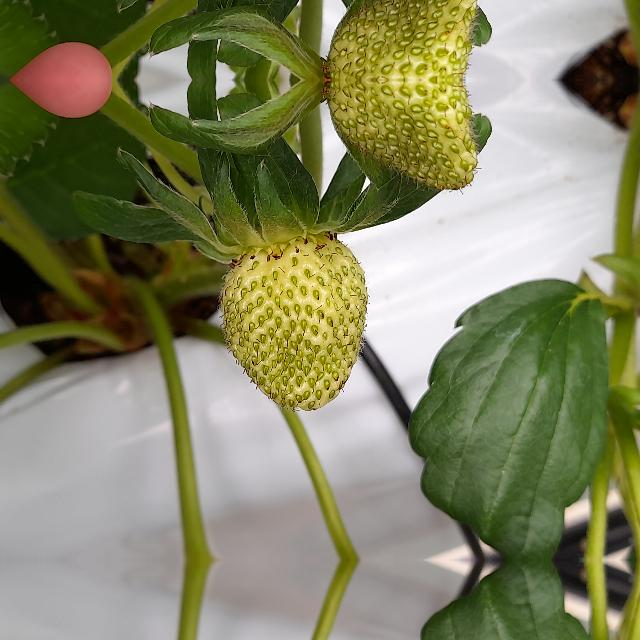Health_25: (220, 231, 368, 411), (319, 80, 477, 188), (319, 0, 477, 80)
